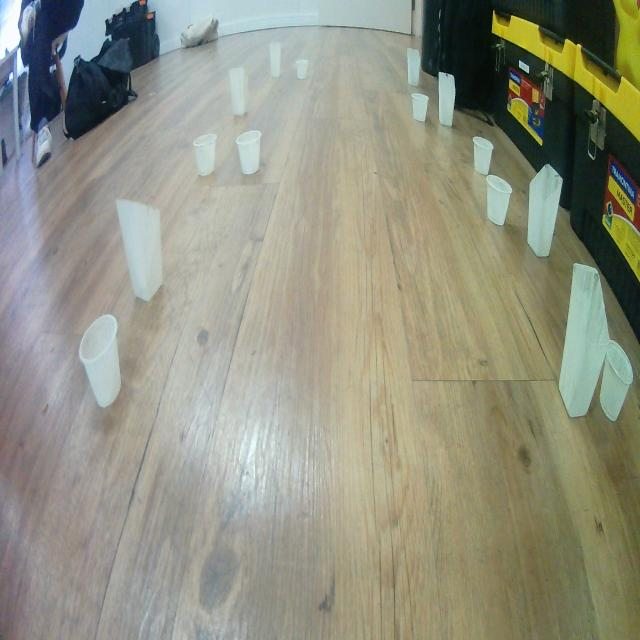erva_daninha: (558, 262, 610, 417), (116, 198, 162, 303), (527, 164, 563, 258), (438, 71, 456, 127), (230, 68, 248, 116), (407, 49, 421, 86), (270, 41, 282, 78)
planta: (79, 314, 121, 408), (599, 339, 633, 422), (486, 174, 512, 227), (236, 130, 262, 176), (194, 133, 218, 177), (473, 136, 494, 175), (412, 93, 429, 122), (296, 60, 308, 80)
